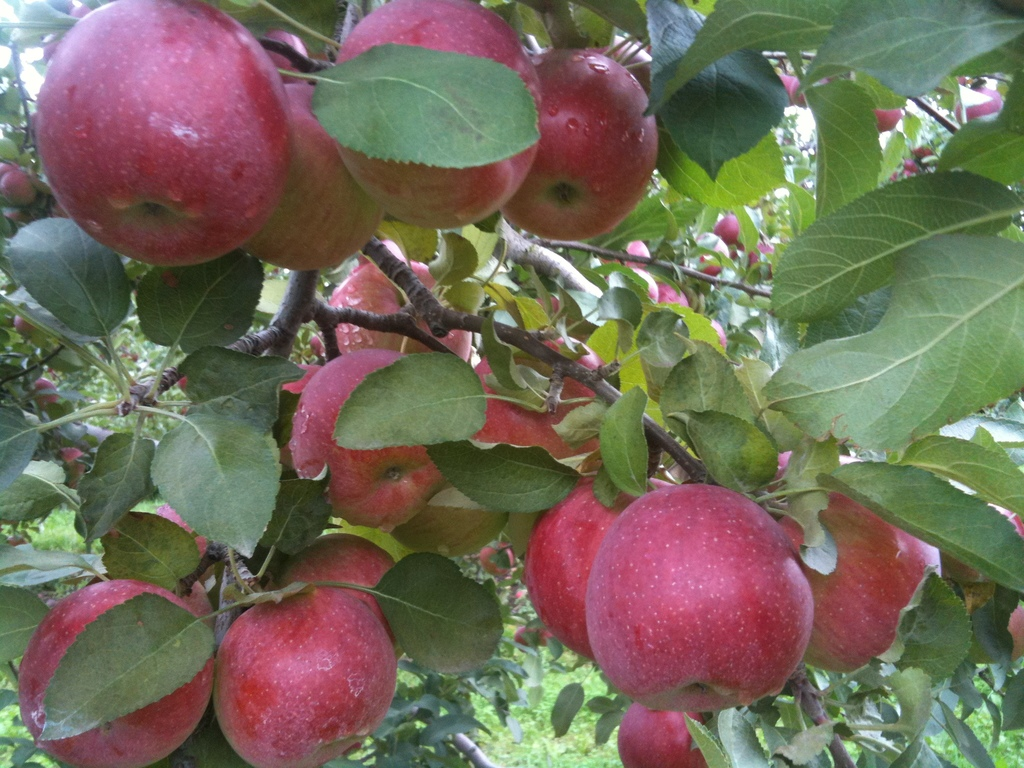Apple: (0, 0, 1023, 767), (29, 2, 288, 263), (583, 480, 813, 714)
